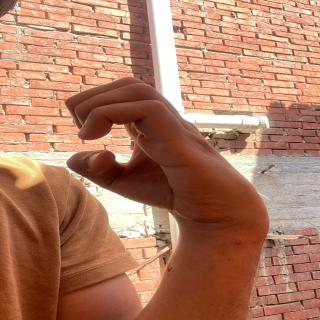JEEM: (55, 76, 292, 219)
